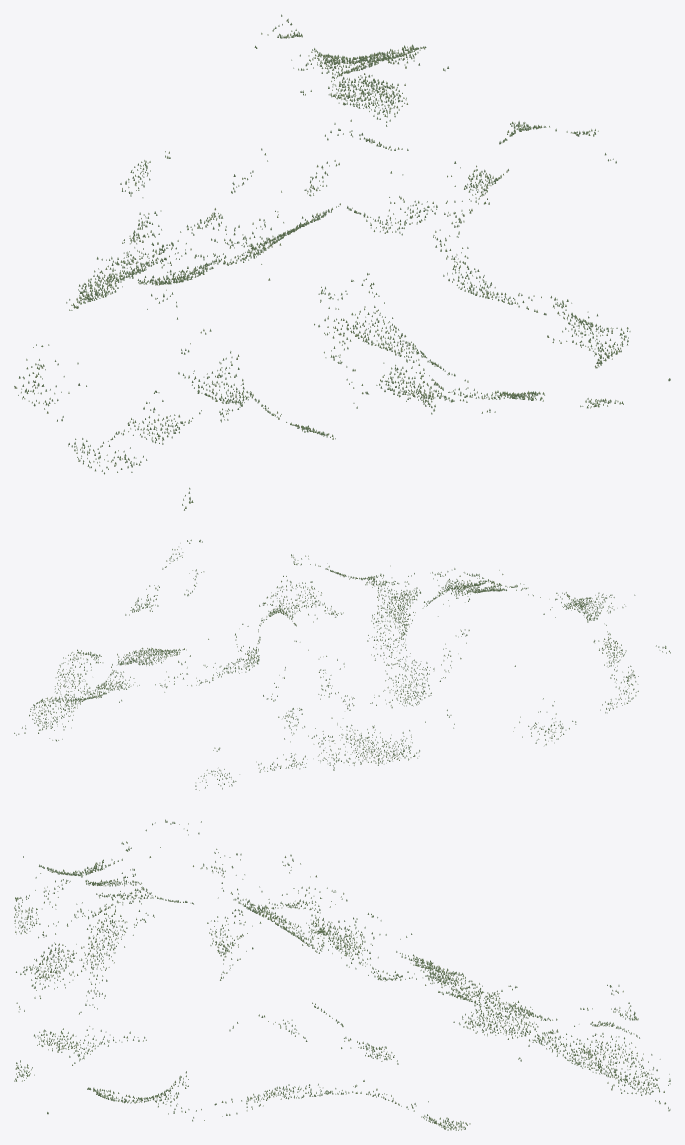
3 views of the same model, one above another, from view 1: azimuth 30°, elevation 25°; view 2: azimuth 150°, elevation 25°; view 3: azimuth 270°, elevation 25° (orthographic). The views are drawn at different scales.
Parts seen in each view (by area): view 1: Forest 0.0; view 2: Forest 0.0; view 3: Forest 0.0.
Boxes of the visible parts, left/top/right/bottom form: Forest 0.0: left=14, top=14, right=670, bottom=510; Forest 0.0: left=14, top=539, right=670, bottom=790; Forest 0.0: left=14, top=819, right=670, bottom=1130.
Bounding box in the file's own units: 4381 × 1114 × 5009.
